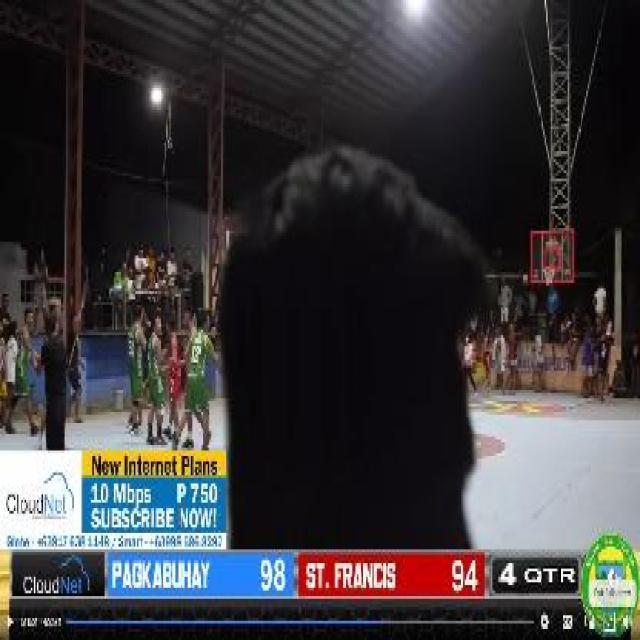ball: (522, 274, 530, 286)
